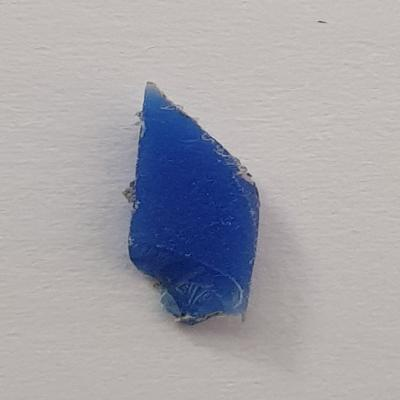plastic: (120, 74, 266, 341)
